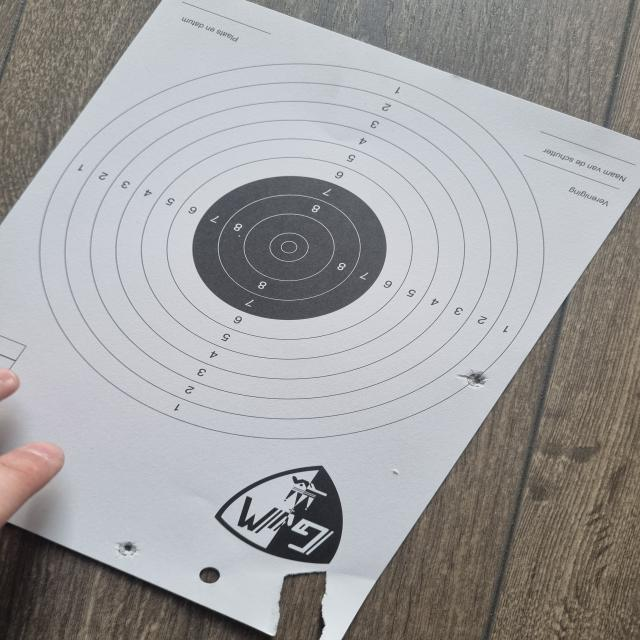0: (114, 540, 139, 559)
1: (466, 370, 489, 388)
Target: (37, 61, 548, 441)
black_contour: (189, 175, 391, 322)
